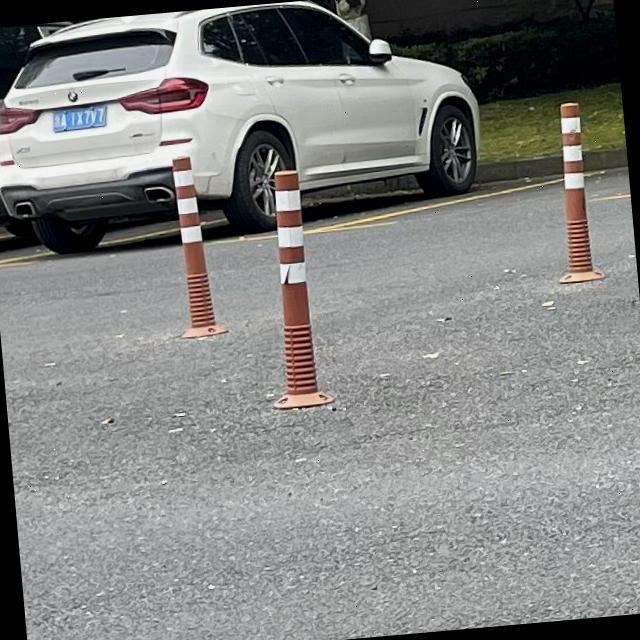curb: (475, 152, 562, 184), (584, 148, 627, 172)
